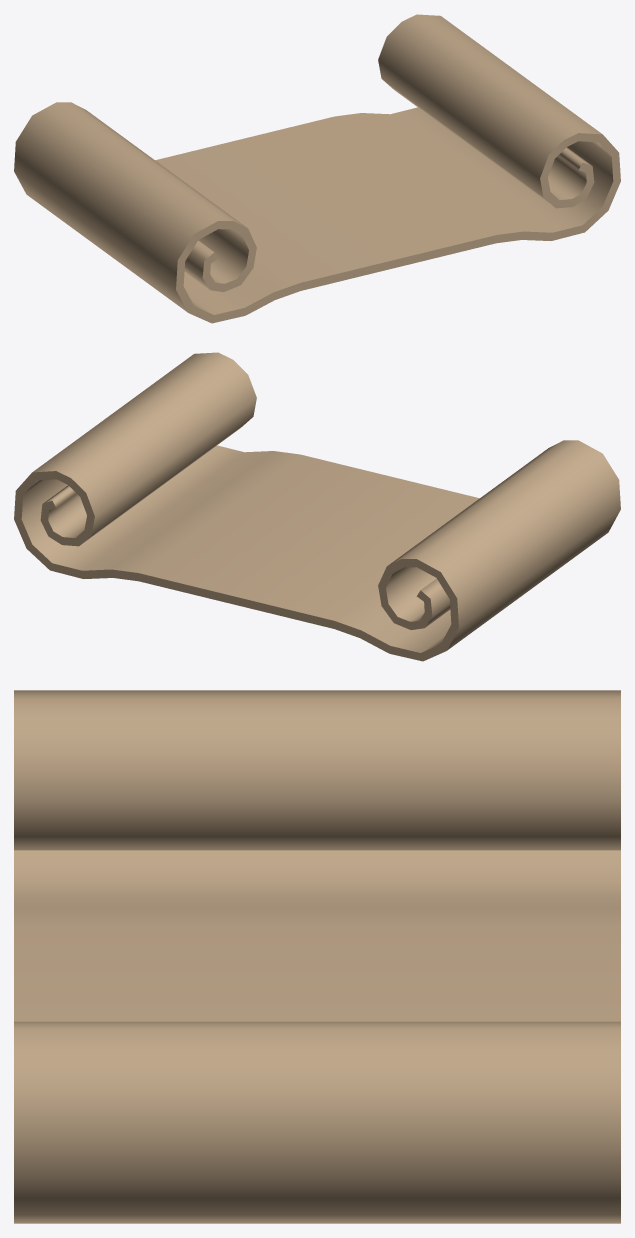
Rendered from Scroll_02_Open.fbx.
3 renders of one model, top to bottom at view 1: azimuth 30°, elevation 25°; view 2: azimuth 150°, elevation 25°; view 3: azimuth 270°, elevation 25°, orthographic. The views are drawn at different scales.
Visible parts, largest first — view 1: Scroll_02_Open; view 2: Scroll_02_Open; view 3: Scroll_02_Open.
Boxes of the visible parts, x1=… form: Scroll_02_Open: x1=14, y1=14, x2=620, y2=323; Scroll_02_Open: x1=14, y1=352, x2=620, y2=661; Scroll_02_Open: x1=14, y1=690, x2=620, y2=1223.
Bounding box in the file's own units: 0.3892 × 0.0848 × 0.2453.
